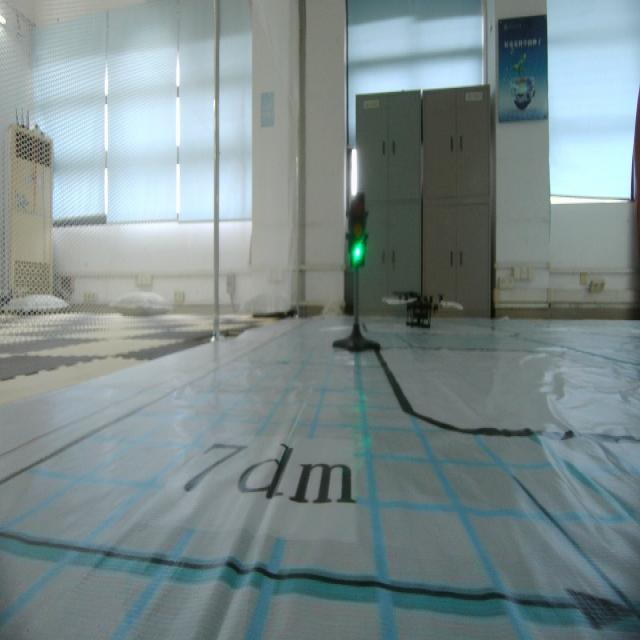green: (339, 191, 371, 271)
